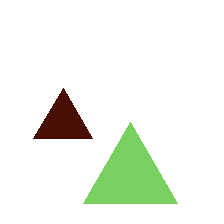triangle: (83, 122, 177, 203), (33, 88, 92, 138)
